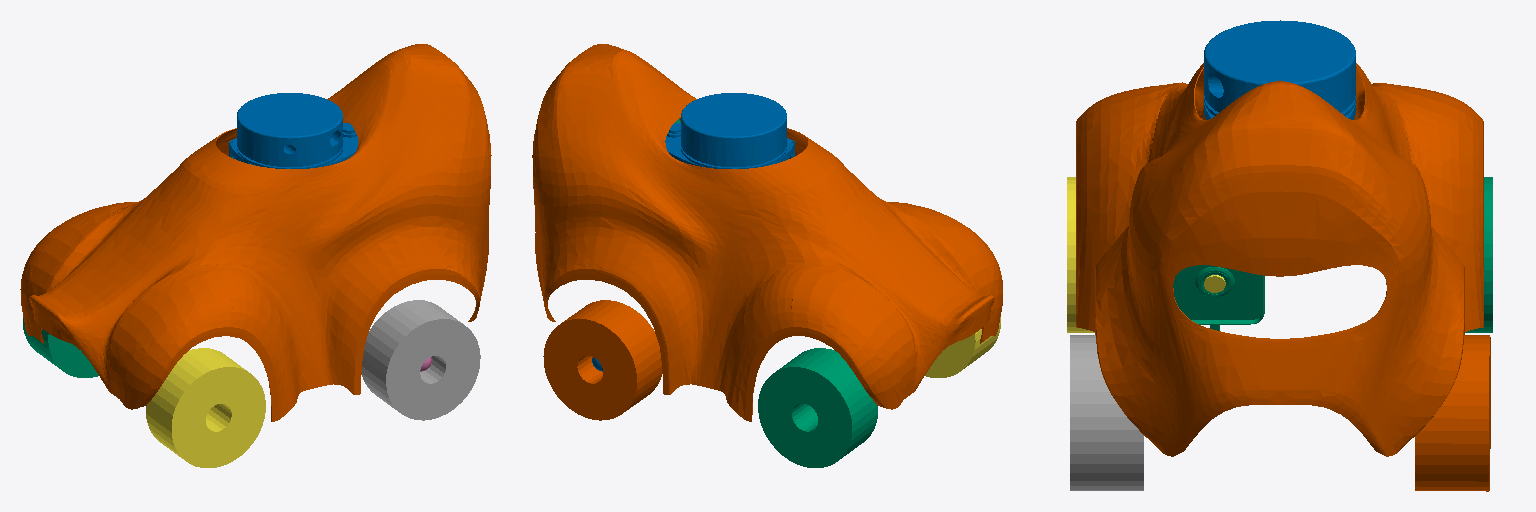
URDF robot description (deepracer):
<?xml version="1.0" encoding="utf-8"?>
<!-- This URDF was automatically created by SolidWorks to URDF Exporter! Originally created by [author] ([email redacted]) 
     Commit Version: 1.5.1-0-g916b5db  Build Version: 1.5.7152.31018
     For more information, please see http://wiki.ros.org/sw_urdf_exporter -->
<robot name="deepracer">

<!-- Links and Joints -->
  <link name="base_link" />
<gazebo reference="base_link">
    <pose>0 0 0 0 0 0</pose>
</gazebo>
  <link name="chassis">
    <inertial>
      <origin
        xyz="0 0 0"
        rpy="0 0 0" />
      <mass
        value="5.0" />
      <inertia
        ixx="0.010609"
        ixy="0"
        ixz="0"
        iyy="0.050409"
        iyz="0"
        izz="0.05865" />
    </inertial>
    <visual>
      <origin
        xyz="0 0 0"
        rpy="0 0 0" />
      <geometry>
        <mesh
          filename="package://pkg/meshes/deepracer/chassis.STL" />
      </geometry>
    </visual>
  </link>
  
  <joint name="base_link_joint" type="fixed">
    <origin xyz="0 0 0.023249" rpy="0 0 0" />
    <parent link="base_link" />
    <child link="chassis" />
  </joint>
  
  <link
    name="left_rear_wheel">
    <inertial>
      <origin
        xyz="0 0 0"
        rpy="0 0 0" />
      <mass
        value="0.34055" />
      <inertia
        ixx="0.00026046"
        ixy="0"
        ixz="0"
        iyy="0.00041226"
        iyz="0"
        izz="0.00026046" />
    </inertial>
    <visual>
      <origin
        xyz="0 0 0"
        rpy="0 0 0" />
      <geometry>
        <mesh
          filename="package://pkg/meshes/deepracer/left_rear_wheel.STL" />
      </geometry>
    </visual>
    <collision>
      <origin
        xyz="0 0 0"
        rpy="0 0 0" />
      <geometry>
        <mesh
          filename="package://pkg/meshes/deepracer/left_rear_wheel.STL" />
      </geometry>
    </collision>
  </link>
  
  <joint
    name="left_rear_wheel_joint"
    type="continuous">
    <origin
      xyz="-0.081663 0.08105 0.01575"
      rpy="0 0 0" />
    <parent
      link="chassis" />
    <child
      link="left_rear_wheel" />
    <axis
      xyz="0 1 0" />
    <limit
      effort="10"
      velocity="100" />
  </joint>
  
  
  <link
    name="right_rear_wheel">
    <inertial>
      <origin
        xyz="0 0 0"
        rpy="0 0 0" />
      <mass
        value="0.34055" />
      <inertia
        ixx="0.00026046"
        ixy="0"
        ixz="0"
        iyy="0.00041226"
        iyz="0"
        izz="0.00026046" />
    </inertial>
    <visual>
      <origin
        xyz="0 0 0"
        rpy="0 0 0" />
      <geometry>
        <mesh
          filename="package://pkg/meshes/deepracer/right_rear_wheel.STL" />
      </geometry>
    </visual>
    <collision>
      <origin
        xyz="0 0 0"
        rpy="0 0 0" />
      <geometry>
        <mesh
          filename="package://pkg/meshes/deepracer/right_rear_wheel.STL" />
      </geometry>
    </collision>
  </link>
  

  <joint
    name="right_rear_wheel_joint"
    type="continuous">
    <origin
      xyz="-0.081663 -0.08105 0.01575"
      rpy="0 0 0" />
    <parent
      link="chassis" />
    <child
      link="right_rear_wheel" />
    <axis
      xyz="0 1 0" />
    <limit
      effort="10"
      velocity="100" />
  </joint>
  
  
  <link
    name="left_steering_hinge">
    <inertial>
      <origin
        xyz="0 0 0"
        rpy="0 0 0" />
      <mass
        value="0.1" />
      <inertia
        ixx="4E-06"
        ixy="0"
        ixz="0"
        iyy="4E-06"
        iyz="0"
        izz="4E-06" />
      </inertial>
    <visual>
      <origin
        xyz="0 0 0"
        rpy="0 0 0" />
      <geometry>
        <mesh
          filename="package://pkg/meshes/deepracer/left_steering_hinge.STL" />
      </geometry>
    </visual>
  </link>
  
  <joint
    name="left_steering_hinge_joint"
    type="fixed">
    <origin
      xyz="0.082311 0.079601 0.011759"
      rpy="0 0 0" />
    <parent
      link="chassis" />
    <child
      link="left_steering_hinge" />
    <axis
      xyz="0 0 1" />
    <limit
      lower="-1"
      upper="1"
      effort="10"
      velocity="100" />
  </joint>
  
  
  <link
    name="left_front_wheel">
    <inertial>
      <origin
        xyz="0 0 0"
        rpy="0 0 0" />
      <mass
        value="0.34055" />
      <inertia
        ixx="0.00026046"
        ixy="0"
        ixz="0"
        iyy="0.00041226"
        iyz="0"
        izz="0.00026046" />
    </inertial>
    <visual>
      <origin
        xyz="0 0 0"
        rpy="0 0 0" />
      <geometry>
        <mesh
          filename="package://pkg/meshes/deepracer/left_front_wheel.STL" />
      </geometry>
    </visual>
    <collision>
      <origin
        xyz="0 0 0"
        rpy="0 0 0" />
      <geometry>
        <mesh
          filename="package://pkg/meshes/deepracer/left_front_wheel.STL" />
      </geometry>
    </collision>
  </link>
  
  <joint
    name="left_front_wheel_joint"
    type="continuous">
    <origin
      xyz="0 0 0"
      rpy="0 0 0" />
    <parent
      link="left_steering_hinge" />
    <child
      link="left_front_wheel" />
    <axis
      xyz="0 1 0" />
    <limit
      effort="10"
      velocity="100" />
  </joint>
  
  
  <link
    name="right_steering_hinge">
    <inertial>
      <origin
        xyz="0 0 0"
        rpy="0 0 0" />
      <mass
        value="0.1" />
      <inertia
        ixx="4E-06"
        ixy="0"
        ixz="0"
        iyy="4E-06"
        iyz="0"
        izz="4E-06" />
    </inertial>
    <visual>
      <origin
        xyz="0 0 0"
        rpy="0 0 0" />
      <geometry>
        <mesh
          filename="package://pkg/meshes/deepracer/right_steering_hinge.STL" />
      </geometry>
    </visual>
  </link>
  
  <joint
    name="right_steering_hinge_joint"
    type="fixed">
    <origin
      xyz="0.082311 -0.079601 0.011759"
      rpy="0 0 0" />
    <parent
      link="chassis" />
    <child
      link="right_steering_hinge" />
    <axis
      xyz="0 0 1" />
    <limit
      lower="-1"
      upper="1"
      effort="10"
      velocity="100" />
  </joint>
  <link
    name="right_front_wheel">
    <inertial>
      <origin
        xyz="0 0 0"
        rpy="0 0 0" />
      <mass
        value="0.34055" />
      <inertia
        ixx="0.00026046"
        ixy="0"
        ixz="0"
        iyy="0.00041226"
        iyz="0"
        izz="0.00026046" />
    </inertial>
    <visual>
      <origin
        xyz="0 0 0"
        rpy="0 0 0" />
      <geometry>
        <mesh
          filename="package://pkg/meshes/deepracer/right_front_wheel.STL" />
      </geometry>
    </visual>
    <collision>
      <origin
        xyz="0 0 0"
        rpy="0 0 0" />
      <geometry>
        <mesh
          filename="package://pkg/meshes/deepracer/right_front_wheel.STL" />
      </geometry>
    </collision>
  </link>
  
  <joint
    name="right_front_wheel_joint"
    type="continuous">
    <origin
      xyz="0 0 0"
      rpy="0 0 0" />
    <parent
      link="right_steering_hinge" />
    <child
      link="right_front_wheel" />
    <axis
      xyz="0 1 0" />
    <limit
      effort="10"
      velocity="100" />
  </joint>
  
  <link
    name="zed_camera_link_leftcam">
    <inertial>
      <origin
        xyz="0.019881 6.2875E-05 0.034966"
        rpy="0 0 0" />
      <mass
        value="1e-3" />
      <inertia 
        ixx="1e-6"
        ixy="0"
        ixz="0"
        iyy="1e-6"
        iyz="0"
        izz="1e-6" />
    </inertial>
    <visual>
      <origin
        xyz="0 0 0"
        rpy="0 0 0" />
      <geometry>
        <mesh
          filename="package://pkg/meshes/deepracer/zed_camera_link_leftcam.STL" />
      </geometry>
    </visual>
  </link>
  
  <joint
    name="zed_camera_joint_leftcam"
    type="fixed">
    <origin
      xyz="0.091711 0.03 0.080023"
      rpy="0 0.2618 0" />
    <parent
      link="chassis" />
    <child
      link="zed_camera_link_leftcam" />
    <axis
      xyz="0 0 0" />
  </joint>
  <link
    name="camera_link_leftcam">
    <inertial>
      <origin
        xyz="0.0005 0 0"
        rpy="0 0 0" />
      <mass
        value="1e-3" />
      <inertia 
        ixx="1e-6"
        ixy="0"
        ixz="0"
        iyy="1e-6"
        iyz="0"
        izz="1e-6" />
    </inertial>
<!--     <visual>
      <origin
        xyz="0 0 0"
        rpy="0 0 0" />
      <geometry>
        <mesh
          filename="package://pkg/meshes/deepracer/camera_link_leftcam.STL" />
      </geometry>
    </visual> -->
  </link>
  <joint
    name="camera_joint_leftcam"
    type="fixed">
    <origin
      xyz="0.044755 0 0.04"
      rpy="0 0 0" />
    <parent
      link="zed_camera_link_leftcam" />
    <child
      link="camera_link_leftcam" />
    <axis
      xyz="0 0 0" />
  </joint>
  <link
    name="zed_camera_link_rightcam">
    <inertial>
      <origin
        xyz="0.019881 6.2895E-05 0.034966"
        rpy="0 0 0" />
      <mass
        value="1e-3" />
      <inertia 
        ixx="1e-6"
        ixy="0"
        ixz="0"
        iyy="1e-6"
        iyz="0"
        izz="1e-6" />
    </inertial>
    <visual>
      <origin
        xyz="0 0 0"
        rpy="0 0 0" />
      <geometry>
        <mesh
          filename="package://pkg/meshes/deepracer/zed_camera_link_rightcam.STL" />
      </geometry>
    </visual>
  </link>

  <joint
    name="zed_camera_joint_rightcam"
    type="fixed">
    <origin
      xyz="0.091711 -0.03 0.080023"
      rpy="0 0.2618 0" />
    <parent
      link="chassis" />
    <child
      link="zed_camera_link_rightcam" />
    <axis
      xyz="0 0 0" />
  </joint>
  <link
    name="camera_link_rightcam">
    <inertial>
      <origin
        xyz="0.0005 0 0"
        rpy="0 0 0" />
      <mass
        value="1e-3" />
      <inertia 
        ixx="1e-6"
        ixy="0"
        ixz="0"
        iyy="1e-6"
        iyz="0"
        izz="1e-6" />
    </inertial>
    <visual>
      <origin
        xyz="0 0 0"
        rpy="0 0 0" />
      <geometry>
        <mesh
          filename="package://pkg/meshes/deepracer/camera_link_rightcam.STL" />
      </geometry>
    </visual> 
  </link>

  <joint
    name="camera_joint_rightcam"
    type="fixed">
    <origin
      xyz="0.044755 0 0.04"
      rpy="0 0 0" />
    <parent
      link="zed_camera_link_rightcam" />
    <child
      link="camera_link_rightcam" />
    <axis
      xyz="0 0 0" />
  </joint>
  <link
    name="laser">
    <inertial>
      <origin
        xyz="0.006099 0.00028423 -0.012654"
        rpy="0 0 0" />
      <mass
        value="1E-5" />
      <inertia
        ixx="1e-6"
        ixy="0"
        ixz="0"
        iyy="1e-6"
        iyz="0"
        izz="1e-6" />
    </inertial>
    <visual>
      <origin
        xyz="0 0 0"
        rpy="0 0 0" />
      <geometry>
        <mesh
          filename="package://pkg/meshes/deepracer/laser.STL" />
      </geometry>
    </visual>
    <collision>
      <origin
        xyz="0 0 0"
        rpy="0 0 0" />
      <geometry>
        <mesh
          filename="package://pkg/meshes/deepracer/laser.STL" />
      </geometry>
    </collision>
  </link>

  <joint
    name="hokuyo_joint"
    type="fixed">
    <origin
      xyz="0.02913 0 0.16145" 
      rpy="0 0 0" />
    <parent
      link="chassis" />
    <child
      link="laser" />
    <axis
      xyz="0 0 0" />
  </joint>
  <link
    name="car_body_link_v3">
    <inertial>
      <origin
        xyz="0 0 0"
        rpy="0 0 0" />
      <mass
        value="0" />
      <inertia
        ixx="0"
        ixy="0"
        ixz="0"
        iyy="0"
        iyz="0"
        izz="0" />
    </inertial>
    <visual>
      <origin
        xyz="0 0 0"
        rpy="0 0 0" />
      <geometry>
        <mesh
          filename="package://pkg/meshes/deepracer/car_body_link_lidar_v3.STL" />
      </geometry>
    </visual>
    <collision>
      <origin
        xyz="0 0 0"
        rpy="0 0 0" />
      <geometry>
        <mesh
          filename="package://pkg/meshes/deepracer/car_body_link_lidar_v3.STL" />
      </geometry>
    </collision>
  </link>

  <joint
    name="car_body_joint"
    type="fixed">
    <origin
      xyz="-0.0762 0 2E-05"
      rpy="0 0 0" />
    <parent
      link="chassis" />
    <child
      link="car_body_link_v3" />
    <axis
      xyz="0 0 0" />
  </joint>
  
<!-- Gazebo Tags -->

<!-- Vehicle body -->
  <gazebo reference = "chassis">
<pose>0 0 0 0 0 0</pose>
   <material>Gazebo/Grey</material>
   <mu1 value="0.0"/>
   <mu2 value="0.0"/>
   <kp  value="1000000.0" />
  </gazebo>
  <gazebo reference = "left_rear_wheel">
<pose>0 0 0 0 0 0</pose>
   <material>Gazebo/DarkGrey</material>
   <mu1 value="0.5"/>
   <mu2 value="0.5"/>
   <kp  value="1000000.0" />
   <kd  value="1.0" />
   <fdir1 value="1 0 0"/>
  </gazebo>
  <gazebo reference = "left_front_wheel">
<pose>0 0 0 0 0 0</pose>
   <material>Gazebo/DarkGrey</material>
   <mu1 value="0.5"/>
   <mu2 value="0.5"/>
   <kp  value="1000000.0" />
   <kd  value="1.0" />
   <fdir1 value="1 0 0"/>
  </gazebo>
  <gazebo reference = "right_rear_wheel">
<pose>0 0 0 0 0 0</pose>
   <material>Gazebo/DarkGrey</material>
   <mu1 value="0.5"/>
   <mu2 value="0.5"/>
   <kp  value="1000000.0" />
   <kd  value="1.0" />
   <fdir1 value="1 0 0"/>
  </gazebo>
  <gazebo reference = "right_front_wheel">
<pose>0 0 0 0 0 0</pose>
   <material>Gazebo/DarkGrey</material>
   <mu1 value="0.5"/>
   <mu2 value="0.5"/>
   <kp  value="1000000.0" />
   <kd  value="1.0" />
   <fdir1 value="1 0 0"/>
  </gazebo>
  <gazebo reference = "left_steering_hinge">
<pose>0 0 0 0 0 0</pose>
   <material>Gazebo/DarkGrey</material>
  </gazebo>
  <gazebo reference = "right_steering_hinge">
<pose>0 0 0 0 0 0</pose>
   <material>Gazebo/DarkGrey</material>
  </gazebo>
  <gazebo reference = "zed_camera_link_leftcam">
<pose>0 0 0 0 0 0</pose>
   <material>Gazebo/DarkGrey</material>
  </gazebo>
  <gazebo reference = "zed_camera_link_rightcam">
<pose>0 0 0 0 0 0</pose>
   <material>Gazebo/DarkGrey</material>
  </gazebo>
  <gazebo reference = "car_body_link_v3">
<pose>0 0 0 0 0 0</pose>
   <material>Gazebo/Grey</material>
  </gazebo>
  
<!-- Chassis Controller-->
   <gazebo>
    <plugin name="skid_steer_drive_controller" filename="libgazebo_ros_skid_steer_drive.so">
      <updateRate>30</updateRate>
      <robotNamespace>/</robotNamespace>
      <leftFrontJoint>left_front_wheel_joint</leftFrontJoint>
      <rightFrontJoint>right_front_wheel_joint</rightFrontJoint>
      <leftRearJoint>left_rear_wheel_joint</leftRearJoint>
      <rightRearJoint>right_rear_wheel_joint</rightRearJoint>
      <wheelSeparation>0.159202</wheelSeparation>
      <wheelDiameter>0.06</wheelDiameter>
      <robotBaseFrame>base_link</robotBaseFrame>
      <torque>20</torque>
      <commandTopic>cmd_vel</commandTopic>
      <odometryTopic>odom</odometryTopic>
      <odometryFrame>odom</odometryFrame>
      <covariance_x>0</covariance_x>
      <covariance_y>0</covariance_y>
      <covariance_yaw>0</covariance_yaw>
      <broadcastTF>true</broadcastTF>
    </plugin>
  </gazebo>
  
<!-- Stere Cameras -->
  <gazebo reference="camera_link_leftcam">
    <material>Gazebo/White</material>
    <sensor type="camera" name="zed_camera_left_sensor">
      <pose>0 0 0 0 0 0</pose>
      <update_rate>30</update_rate>
      <camera name="zed_camera_left_camera">
        <horizontal_fov>1.13</horizontal_fov>
        <image>
          <width>640</width>
          <height>480</height>
          <format>R8G8B8</format>
        </image>
        <clip>
          <near>0.02</near>
          <far>300</far>
        </clip>
      </camera>
      <plugin name="camera_controller" filename="libgazebo_ros_camera.so">
        <alwaysOn>true</alwaysOn>
        <!-- Turn down if virtual machine-->
        <updateRate>30</updateRate>
        <cameraName>deepracer/camera/zed_left</cameraName>
        <imageTopicName>image_rect_color_left</imageTopicName>
        <cameraInfoTopicName>camera_info_left</cameraInfoTopicName>
        <frameName>camera_link_left</frameName>
        <hackBaseline>0.12</hackBaseline><!-- set this to 0.12 for the second camera -->
        <distortionK1>0.0</distortionK1>
        <distortionK2>0.0</distortionK2>
        <distortionK3>0.0</distortionK3>
        <distortionT1>0.0</distortionT1>
        <distortionT2>0.0</distortionT2>
      </plugin>
    </sensor>
  </gazebo>

  <gazebo reference="camera_link_rightcam">
    <material>Gazebo/White</material>
    <sensor type="camera" name="zed_camera_right_sensor">
      <pose>0 0 0 0 0 0</pose>
      <update_rate>30</update_rate>
      <camera name="zed_camera_right_camera">
        <horizontal_fov>1.13</horizontal_fov>
        <image>
          <width>640</width>
          <height>480</height>
          <format>R8G8B8</format>
        </image>
        <clip>
          <near>0.02</near>
          <far>300</far>
        </clip>
      </camera>
      <plugin name="camera_controller_right" filename="libgazebo_ros_camera.so">
        <alwaysOn>true</alwaysOn>
        <!-- Turn down if virtual machine-->
        <updateRate>30</updateRate>
        <cameraName>deepracer/camera/zed_right</cameraName>
        <imageTopicName>image_rect_color_right</imageTopicName>
        <cameraInfoTopicName>camera_info_right</cameraInfoTopicName>
        <frameName>camera_link_right</frameName>
        <hackBaseline>0.0</hackBaseline>
        <distortionK1>0.0</distortionK1>
        <distortionK2>0.0</distortionK2>
        <distortionK3>0.0</distortionK3>
        <distortionT1>0.0</distortionT1>
        <distortionT2>0.0</distortionT2>
      </plugin>
    </sensor>
  </gazebo>

<!-- Laser -->
  <gazebo reference="laser">
    <material>Gazebo/DarkGrey</material>
    <sensor type="ray" name="hokuyo_sensor">
      <pose>0 0 0 0 0 0</pose>
      <visualize>true</visualize>
      <update_rate>30</update_rate>
      <ray>
        <scan>
          <horizontal>
            <samples>600</samples>
            <resolution>1</resolution>
            <min_angle>0.52351</min_angle>
            <max_angle>5.75949</max_angle>
          </horizontal>
        </scan>
        <range>
          <min>0.15</min>
          <max>10</max>
          <resolution>0.01</resolution>
        </range>
        <noise>
          <mean>0.0</mean>
          <stddev>0</stddev>
        </noise>
      </ray>

       <plugin name="rp_lidar" filename="libgazebo_ros_laser.so">
          <topicName>scan</topicName>
          <frameName>base_link</frameName>
        </plugin>
    </sensor>
  </gazebo>
  
</robot>

--- Facts derived from the render (not from the file) ---
Views: 3 orthographic renders of the robot side by side, from view 1: azimuth 30°, elevation 25°; view 2: azimuth 150°, elevation 25°; view 3: azimuth 270°, elevation 25°.
Robot: deepracer — 14 links, 13 joints (4 continuous, 9 fixed); root link base_link; default pose: all joints at 0.
Visible links, largest first — view 1: car_body_link_v3, right_front_wheel, right_rear_wheel, laser, left_rear_wheel; view 2: car_body_link_v3, left_front_wheel, left_rear_wheel, laser, right_rear_wheel; view 3: car_body_link_v3, laser, left_front_wheel, right_front_wheel, zed_camera_link_rightcam, left_rear_wheel, right_rear_wheel.
Link boxes in pixels (x1,y1,x2,y2): car_body_link_v3: (20, 44, 491, 421); right_front_wheel: (362, 300, 480, 420); right_rear_wheel: (146, 348, 265, 467); laser: (229, 93, 358, 168); left_rear_wheel: (23, 318, 98, 377); car_body_link_v3: (532, 44, 1002, 421); left_front_wheel: (543, 300, 662, 420); left_rear_wheel: (758, 348, 877, 467); laser: (665, 93, 794, 168); right_rear_wheel: (925, 317, 1000, 377); car_body_link_v3: (1076, 63, 1483, 456); laser: (1204, 20, 1355, 119); left_front_wheel: (1415, 335, 1490, 491); right_front_wheel: (1070, 335, 1143, 490); zed_camera_link_rightcam: (1173, 265, 1264, 330); left_rear_wheel: (1465, 177, 1492, 332); right_rear_wheel: (1067, 177, 1094, 332).
Bounding box of the posed robot: 0.3242 × 0.1961 × 0.2193 m (x, y, z).
Meshes: 12 distinct files referenced, 10 mesh visuals loaded (10 binary STL); not drawn: 2 (reference not matched to a file when rendering).
